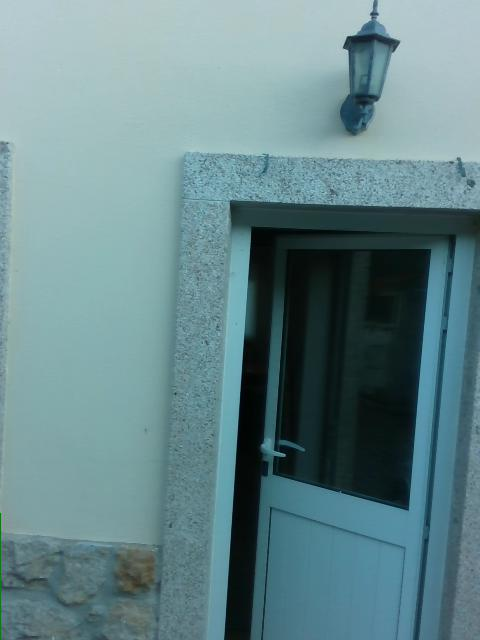semi_door: (205, 200, 476, 639)
